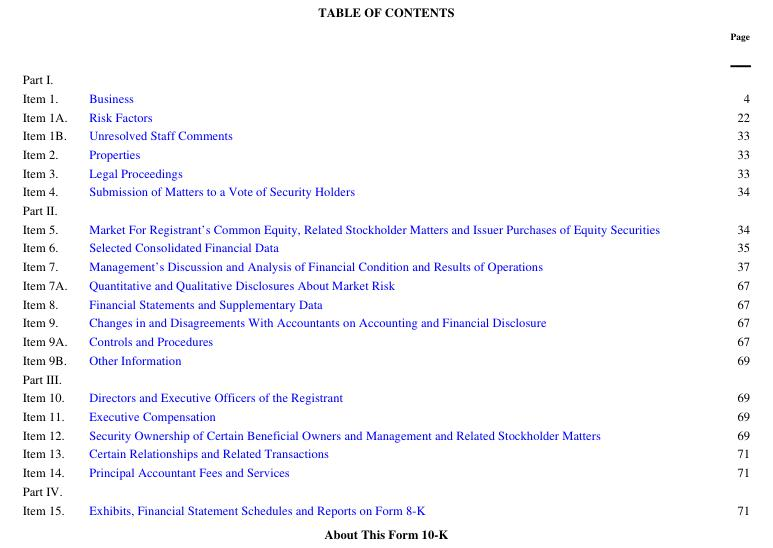table: (21, 28, 748, 517)
table column: (77, 28, 694, 517), (21, 28, 77, 517), (694, 28, 748, 517)
table column header: (21, 28, 748, 55)
table projected row header: (21, 55, 748, 87), (21, 199, 748, 218), (21, 480, 748, 499), (21, 368, 748, 386)
table row: (21, 55, 748, 87), (21, 28, 748, 55), (21, 87, 748, 106), (21, 106, 748, 125), (21, 143, 748, 162), (21, 162, 748, 181), (21, 199, 748, 218), (21, 218, 748, 237), (21, 255, 748, 274), (21, 274, 748, 293), (21, 293, 748, 312), (21, 330, 748, 349), (21, 349, 748, 368), (21, 386, 748, 405), (21, 405, 748, 424), (21, 424, 748, 443), (21, 461, 748, 480), (21, 480, 748, 499), (21, 125, 748, 143), (21, 181, 748, 199), (21, 237, 748, 255), (21, 312, 748, 330), (21, 368, 748, 386), (21, 443, 748, 461), (21, 499, 748, 517)
